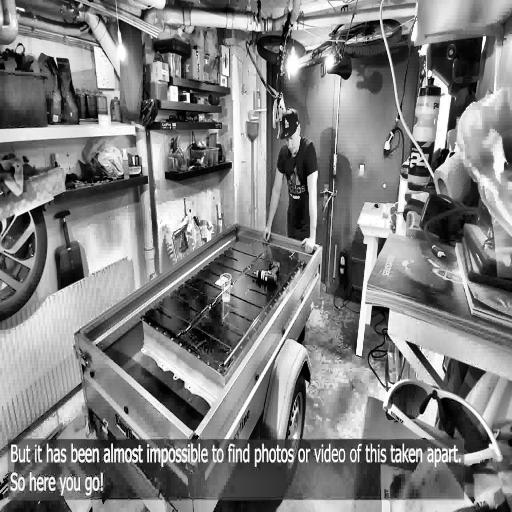b_casing: (140, 240, 305, 377)
